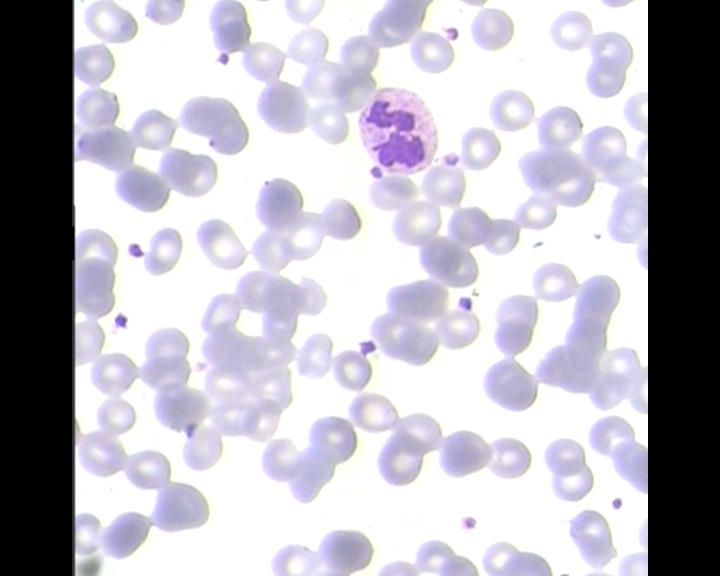neut: (357, 83, 438, 175)
